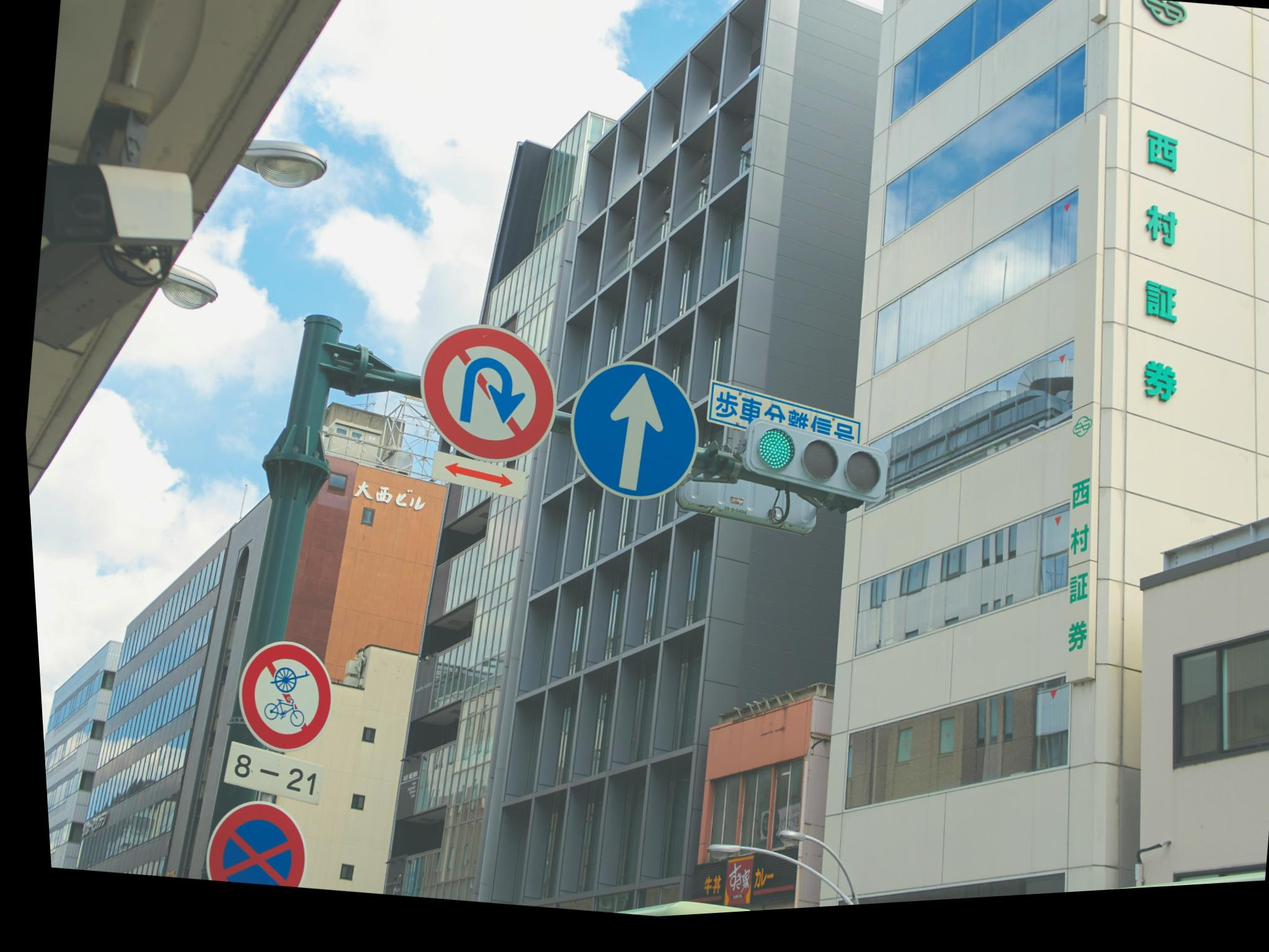stop_sign: (188, 785, 316, 894)
